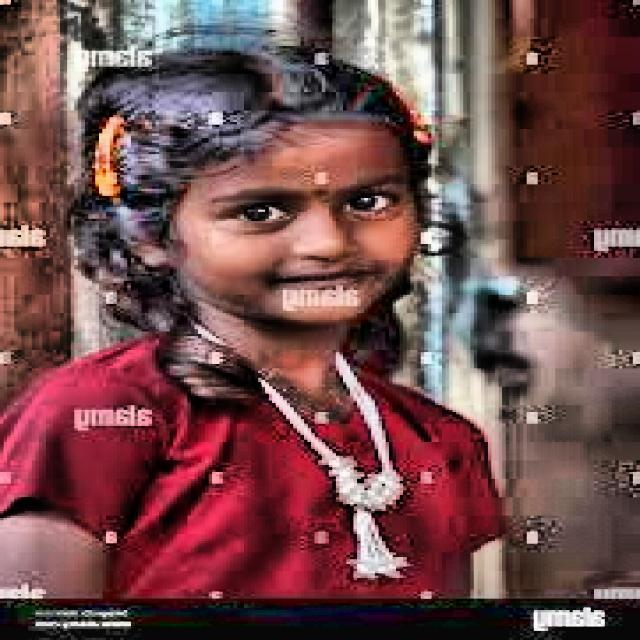Human: (4, 35, 538, 590)
